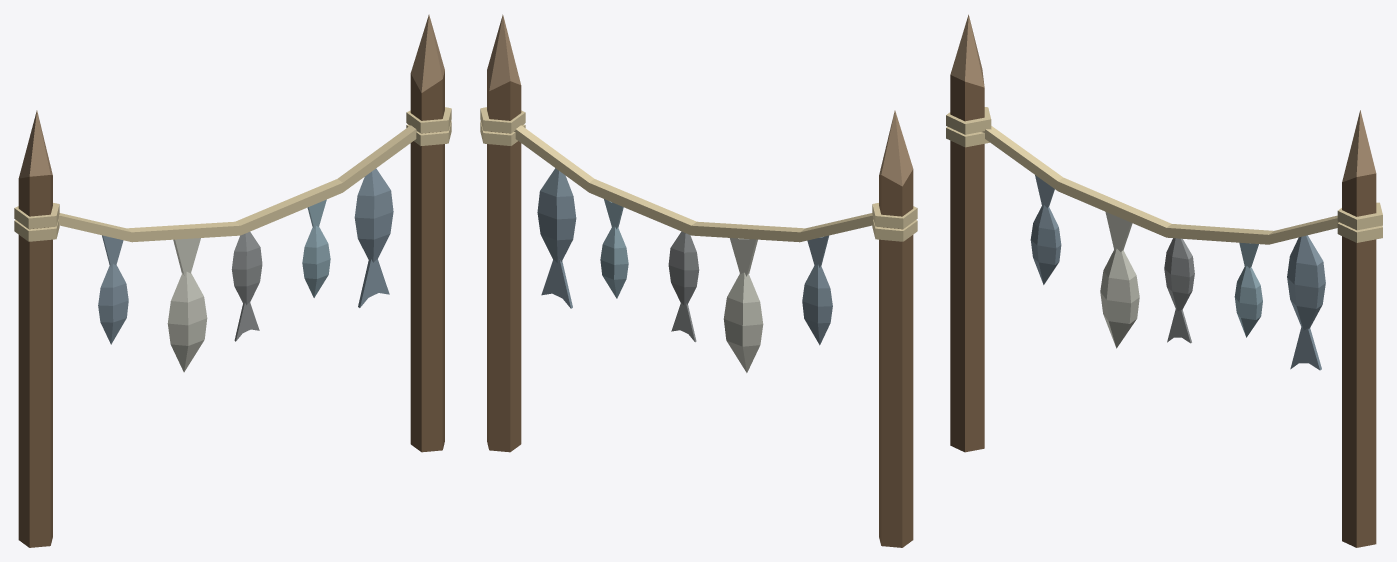
The model's file is Dried Fish.fbx.
3 renders of one model, left to right at view 1: azimuth 30°, elevation 25°; view 2: azimuth 150°, elevation 25°; view 3: azimuth 330°, elevation 25°, orthographic.
Parts seen in each view (by area): view 1: Dried_Fish; view 2: Dried_Fish; view 3: Dried_Fish.
Part boxes in pixels (x1,y1,x2,y2): Dried_Fish: [14, 14, 451, 547]; Dried_Fish: [480, 14, 917, 547]; Dried_Fish: [946, 14, 1382, 547].
Size of the model in its own units: 147 by 141 by 13.73.
Materials: 1 (1 with a texture image).
